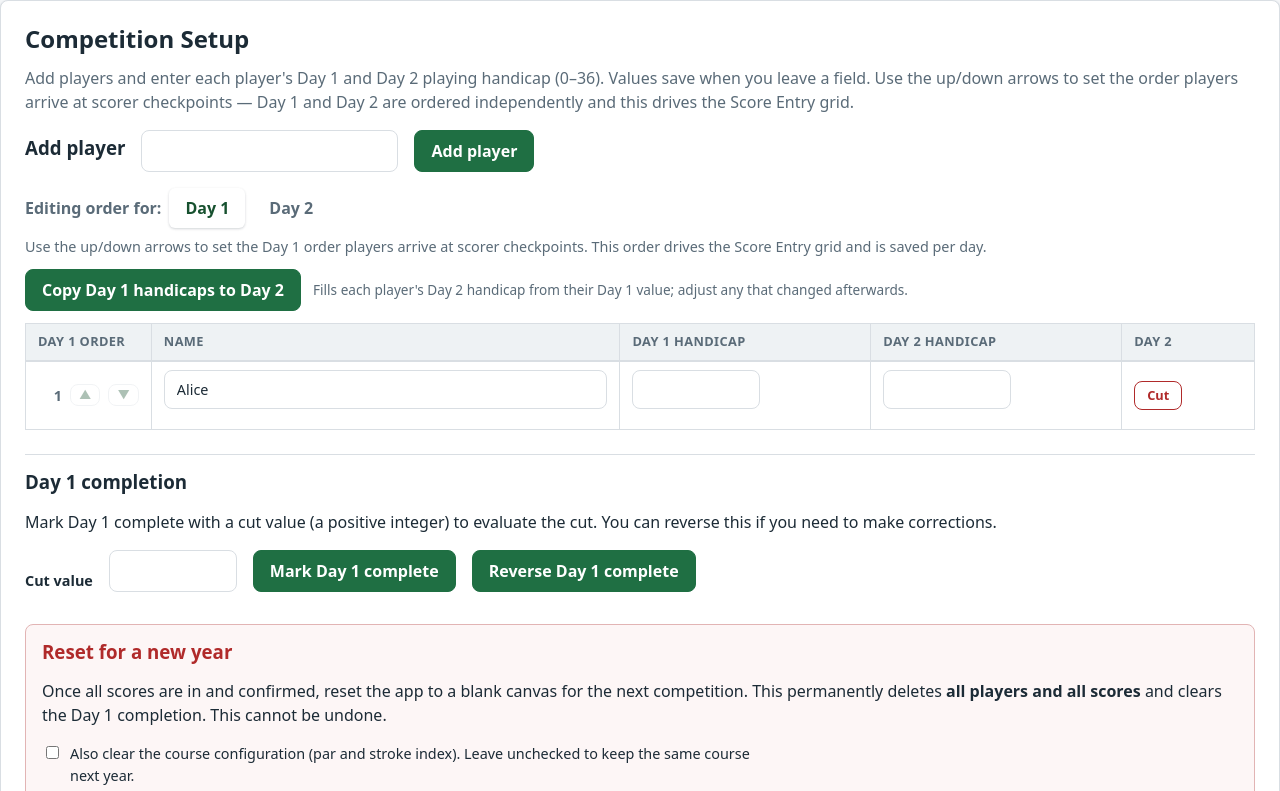
Scenario: CompetitionSetupScreen › edits a Day 1 handicap and shows a save confirmation (2.5)
The image size is (1280, 791).
Type "15" into the number field named "Day 1 handicap for Alice" at (696, 389), box [632,370,760,409]
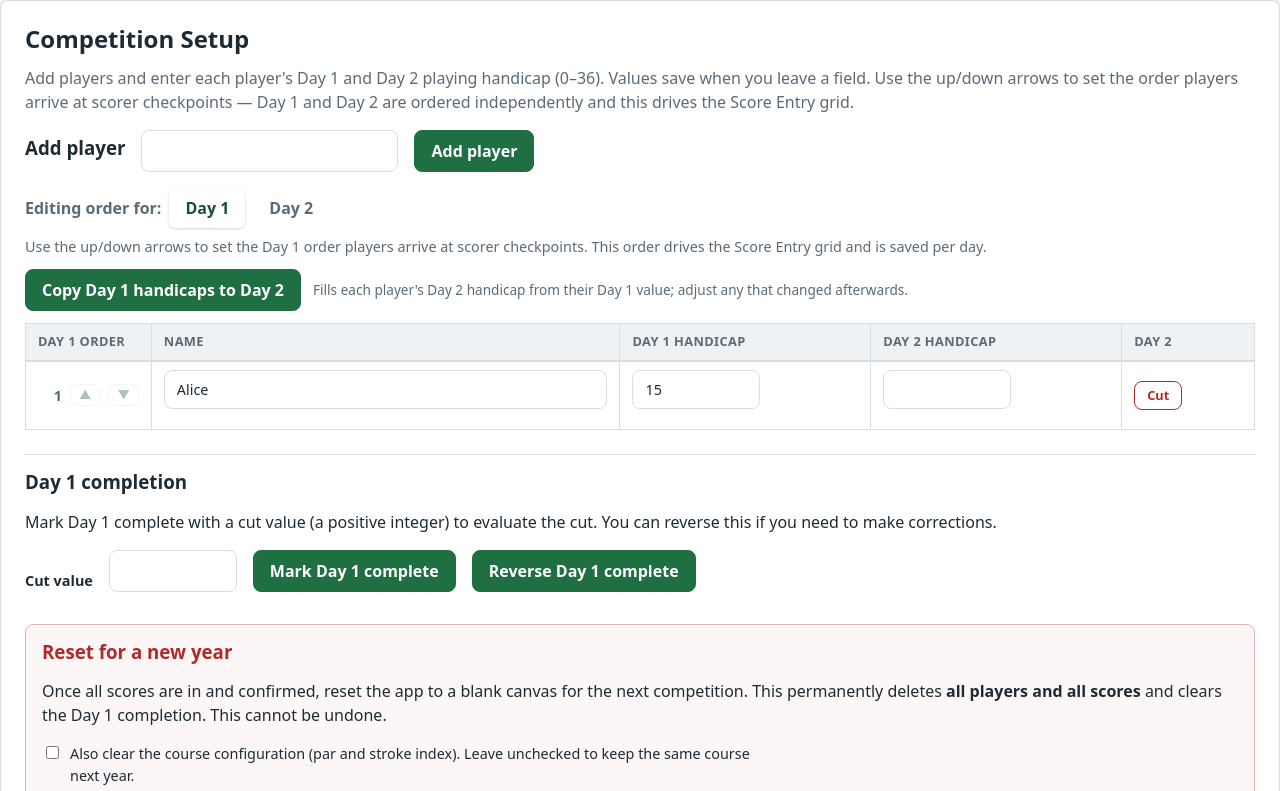
Leave the number field named "Day 1 handicap for Alice", box [632,370,760,409]
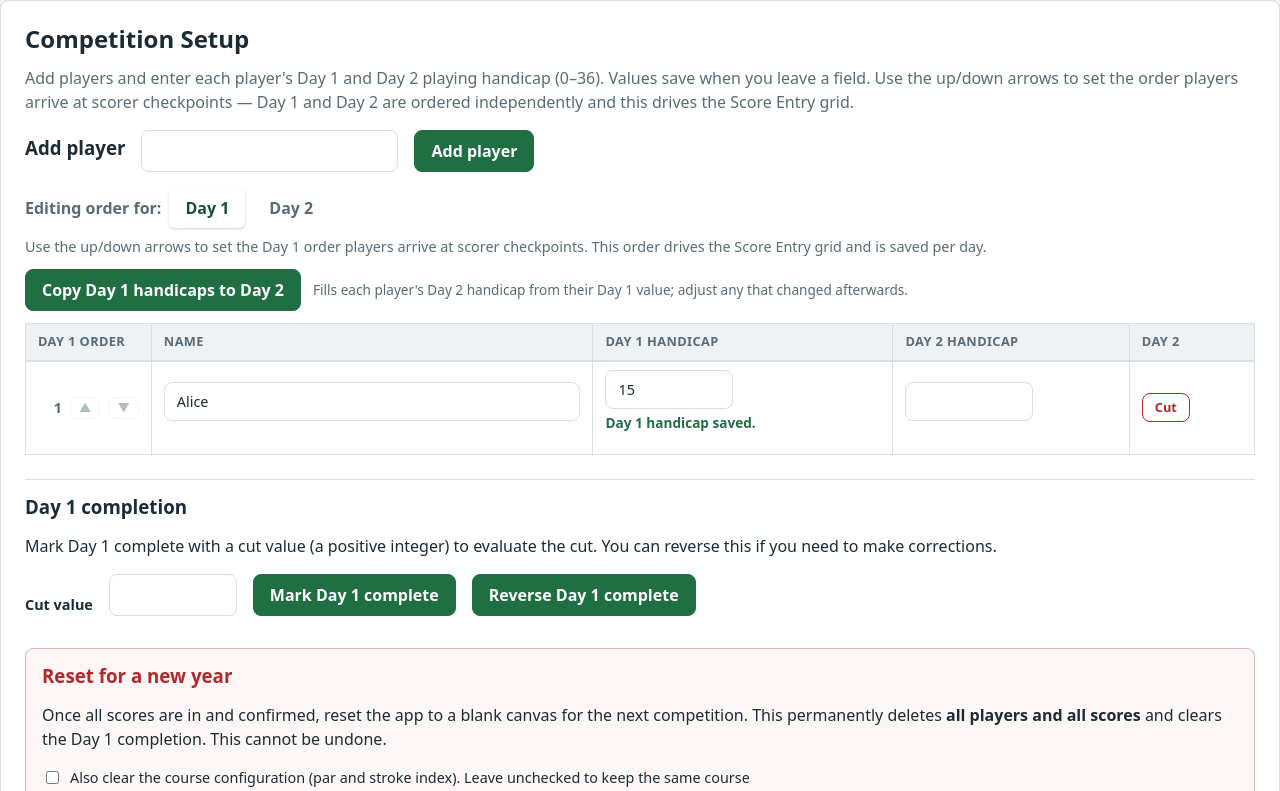
Check: the text "Day 1 handicap saved." is shown, box [606,413,756,432]
